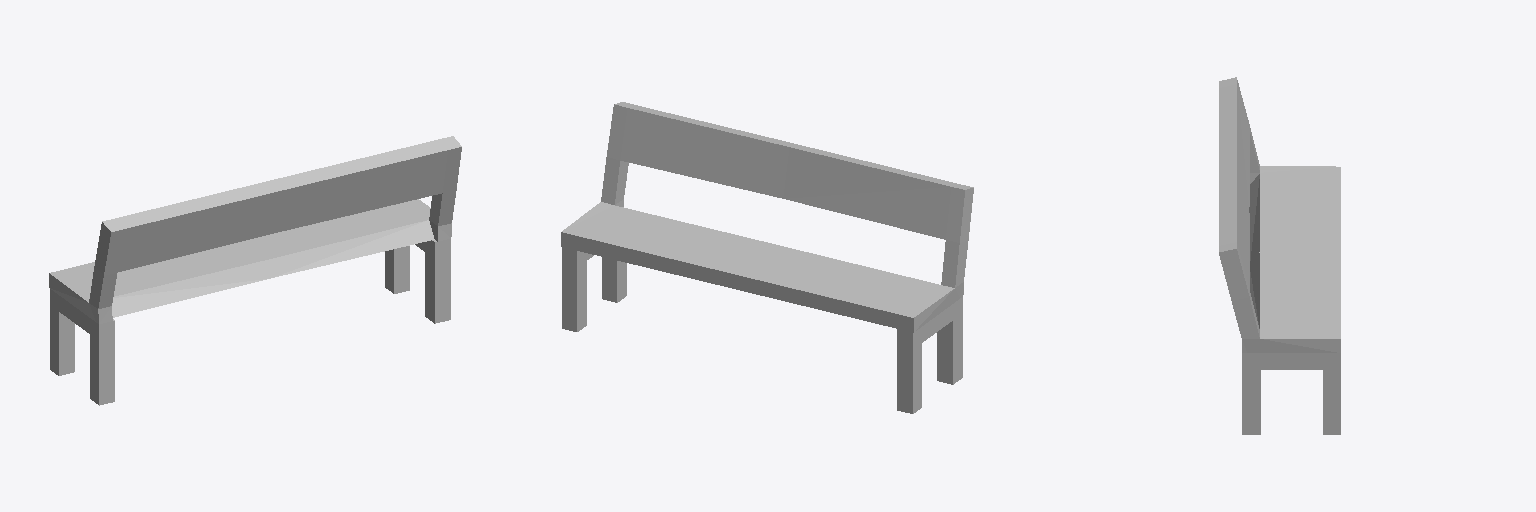
Rendered from bench_tri.obj.
The picture shows the model from 3 angles: view 1: azimuth 30°, elevation 25°; view 2: azimuth 150°, elevation 25°; view 3: azimuth 270°, elevation 25°; orthographic projection.
Parts seen in each view (by area): view 1: Cube.001_Cube; view 2: Cube.001_Cube; view 3: Cube.001_Cube.
Part boxes in pixels (bbox=[...]): Cube.001_Cube: bbox=[49, 136, 461, 405]; Cube.001_Cube: bbox=[561, 102, 973, 413]; Cube.001_Cube: bbox=[1219, 77, 1340, 434].
Size of the model in its own units: 2.11 by 1.06 by 0.6352.